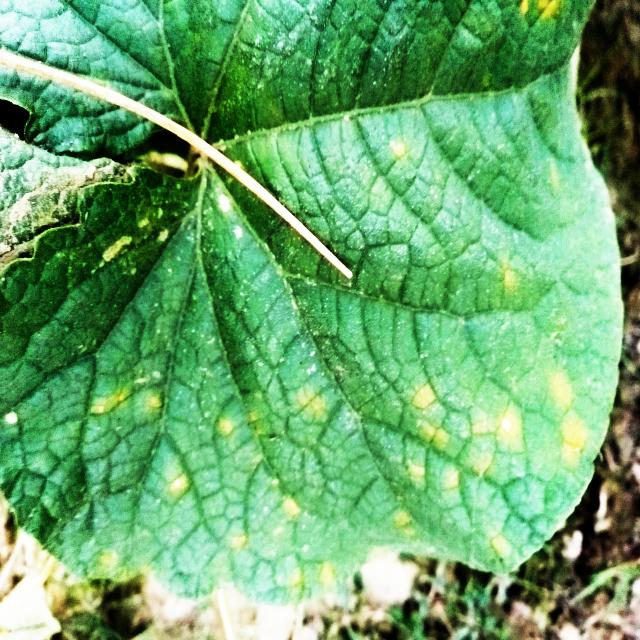Downy-Mildew: (0, 0, 627, 610)
